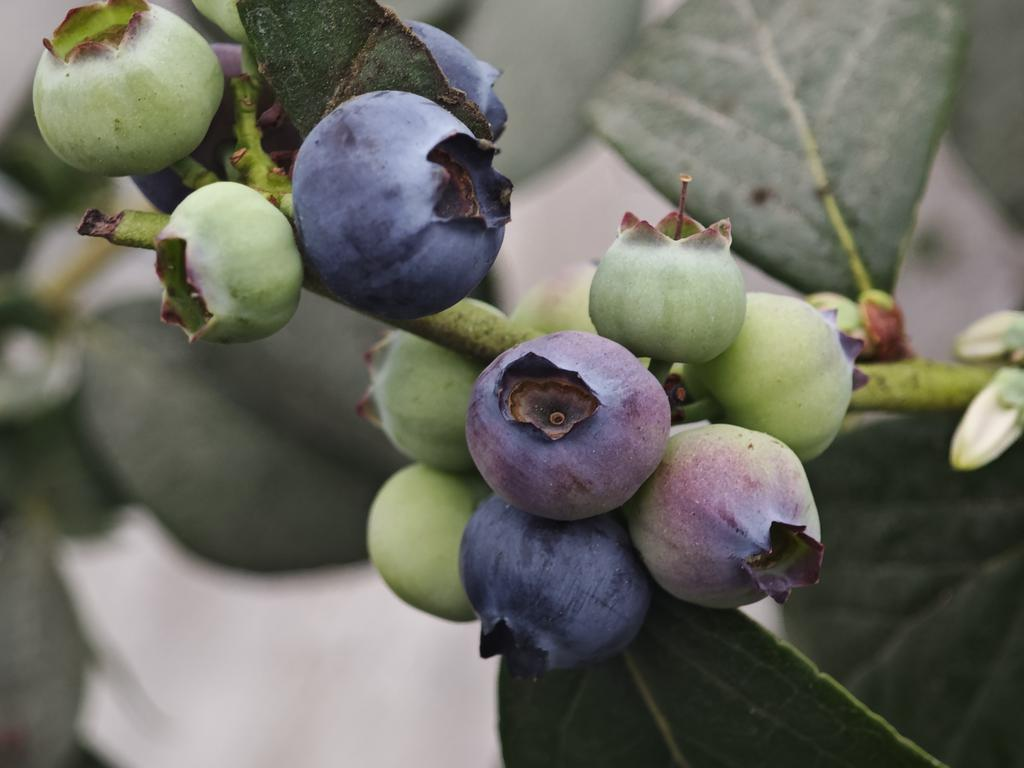RipeBlueBerry: (642, 439, 873, 604)
Semi-RipeBlueBerry: (457, 317, 691, 520)
UnripeBlueBerry: (299, 100, 527, 318), (581, 180, 756, 360), (26, 8, 212, 168), (173, 199, 287, 343)
